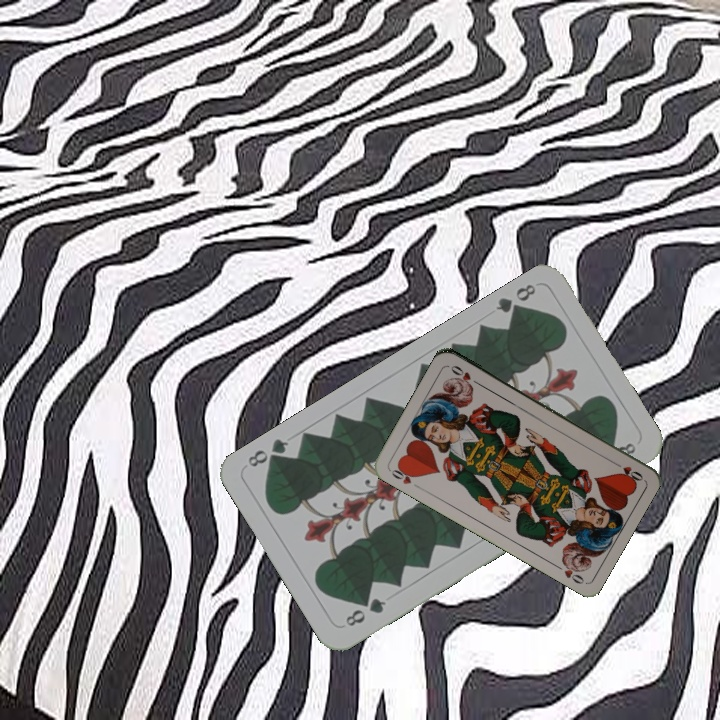G8: (491, 279, 539, 321), (341, 593, 389, 630)
HO: (386, 461, 423, 492), (608, 457, 646, 483)
